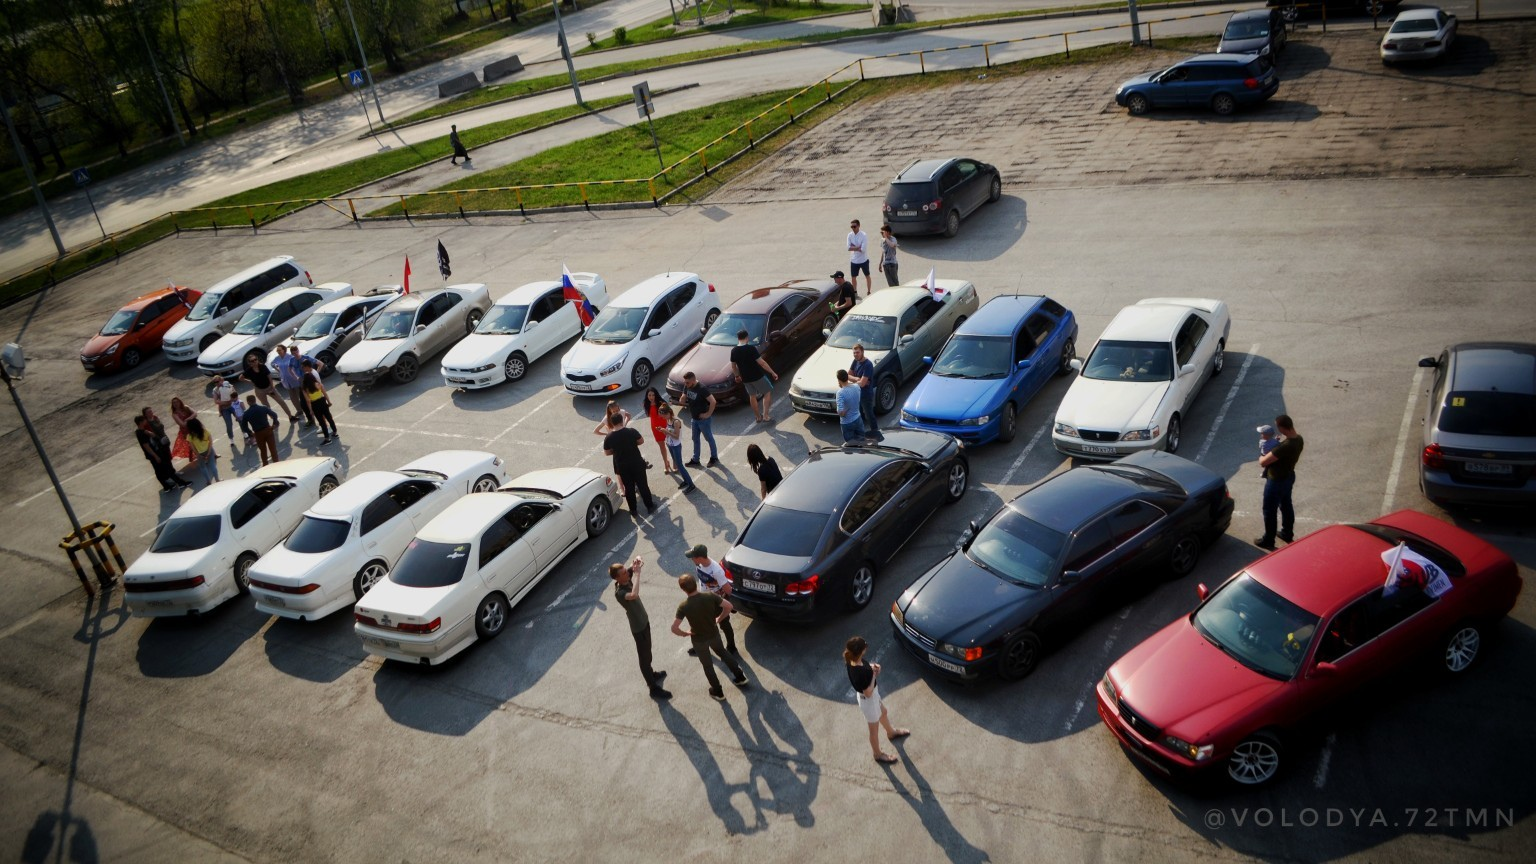Car: (1095, 510, 1522, 788), (889, 452, 1234, 680), (354, 468, 619, 666), (722, 430, 969, 623), (247, 450, 507, 621), (122, 457, 341, 618), (1052, 297, 1232, 460), (899, 295, 1078, 445), (789, 277, 980, 418), (665, 277, 841, 407), (1417, 339, 1536, 508), (441, 271, 608, 391), (560, 272, 719, 397), (162, 255, 314, 364), (335, 283, 493, 387), (197, 282, 354, 377), (264, 285, 406, 379), (80, 284, 201, 375), (1114, 54, 1281, 116), (882, 156, 1003, 237), (1379, 5, 1459, 68), (1217, 8, 1287, 60), (1266, 0, 1405, 20)
